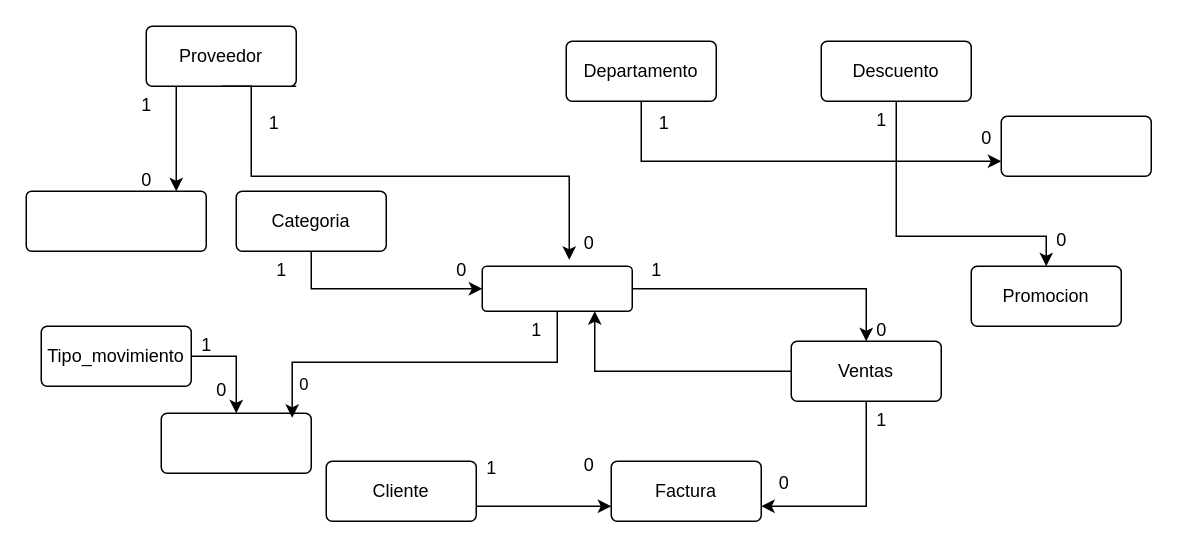
Some shapes in this 1178 by 548 pixel diagram are drawn without their labels. The box of each missing label's shape, as (x1, y1, x2, y2) in pixels:
Empleado: (1000, 115, 1151, 176)
Movimiento_stock: (160, 412, 311, 473)
Producto: (481, 265, 632, 311)
Proveedor_Producto: (25, 190, 206, 251)
